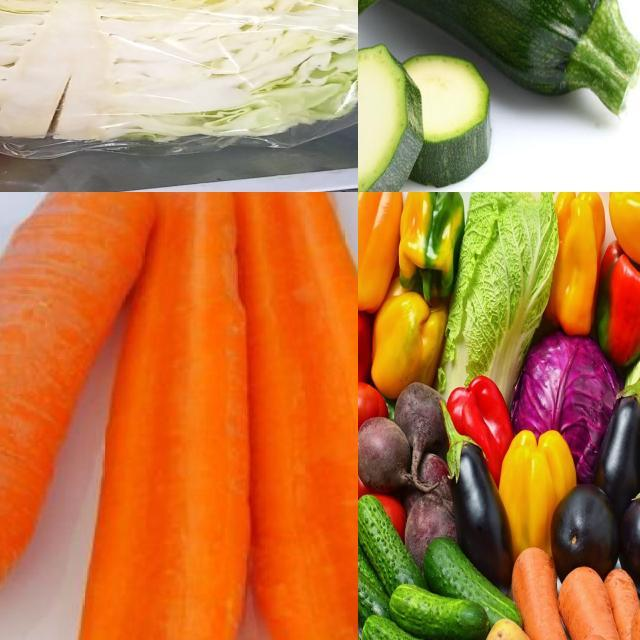beet: (359, 414, 411, 499), (397, 380, 443, 457), (404, 492, 452, 554)
bell_pepper: (368, 280, 444, 394), (504, 425, 571, 552), (553, 193, 603, 337), (449, 373, 516, 473), (400, 193, 458, 293), (603, 236, 640, 353), (359, 193, 395, 303), (604, 193, 640, 265), (359, 289, 378, 392)
cabbage: (1, 1, 359, 143), (517, 332, 616, 477)
carrot: (77, 193, 249, 640), (1, 193, 169, 631), (242, 193, 359, 640), (515, 548, 575, 640), (561, 573, 622, 640), (606, 566, 640, 640)
cucumber: (425, 546, 518, 626), (390, 578, 484, 640), (359, 504, 411, 590), (359, 542, 386, 615), (360, 626, 475, 640), (359, 613, 406, 640)
eggplant: (556, 485, 620, 575), (602, 391, 640, 492), (627, 484, 640, 579)
onion: (448, 429, 512, 575)
potato: (487, 617, 538, 640)
tomato: (359, 386, 389, 450)
